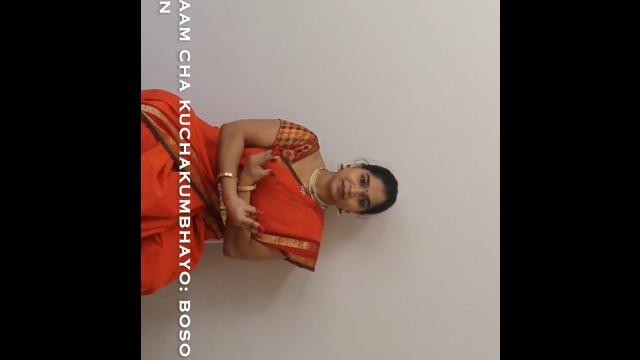padamkosh: (232, 134, 298, 194), (216, 177, 272, 245)
